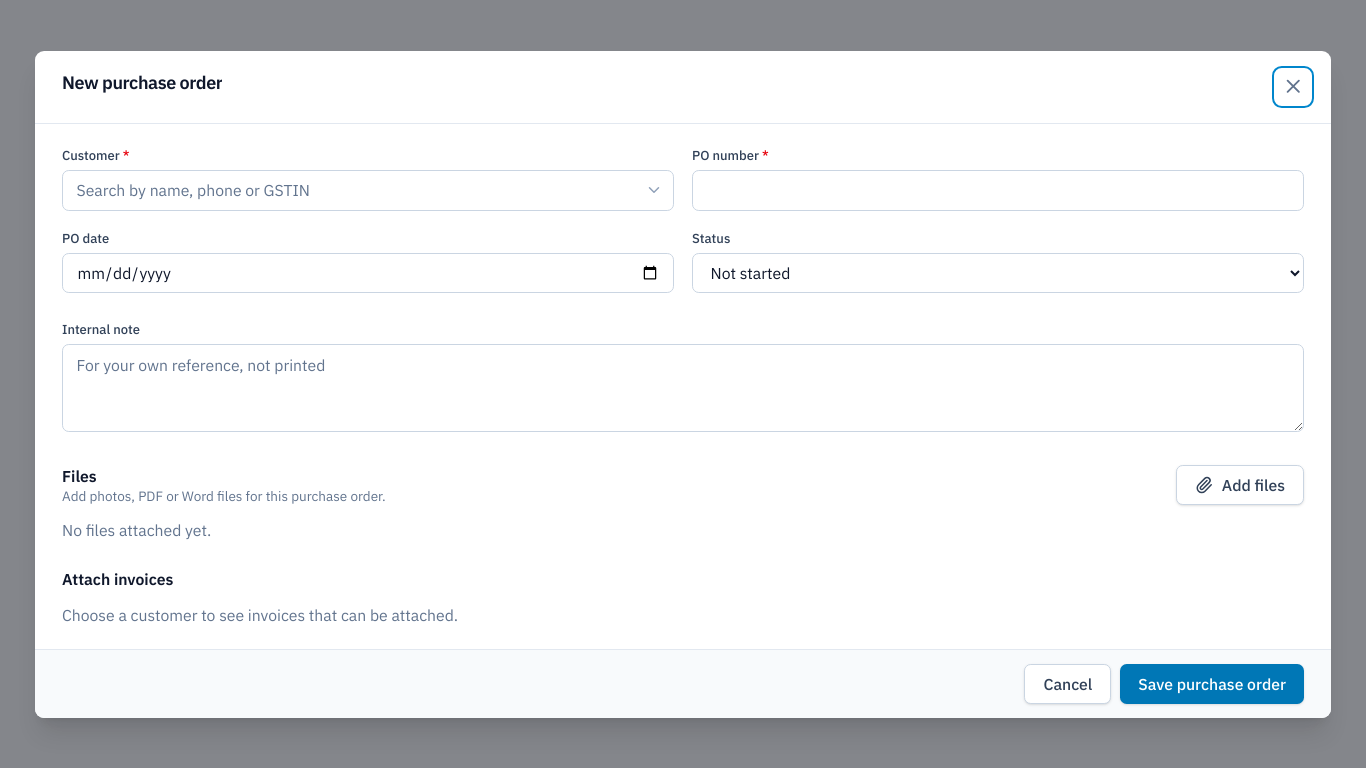
Test: a new purchase order › shows each invoice's payment state
The image size is (1366, 768).
Click the dropdown named "Customer" at (368, 190), box [62,170,674,210]
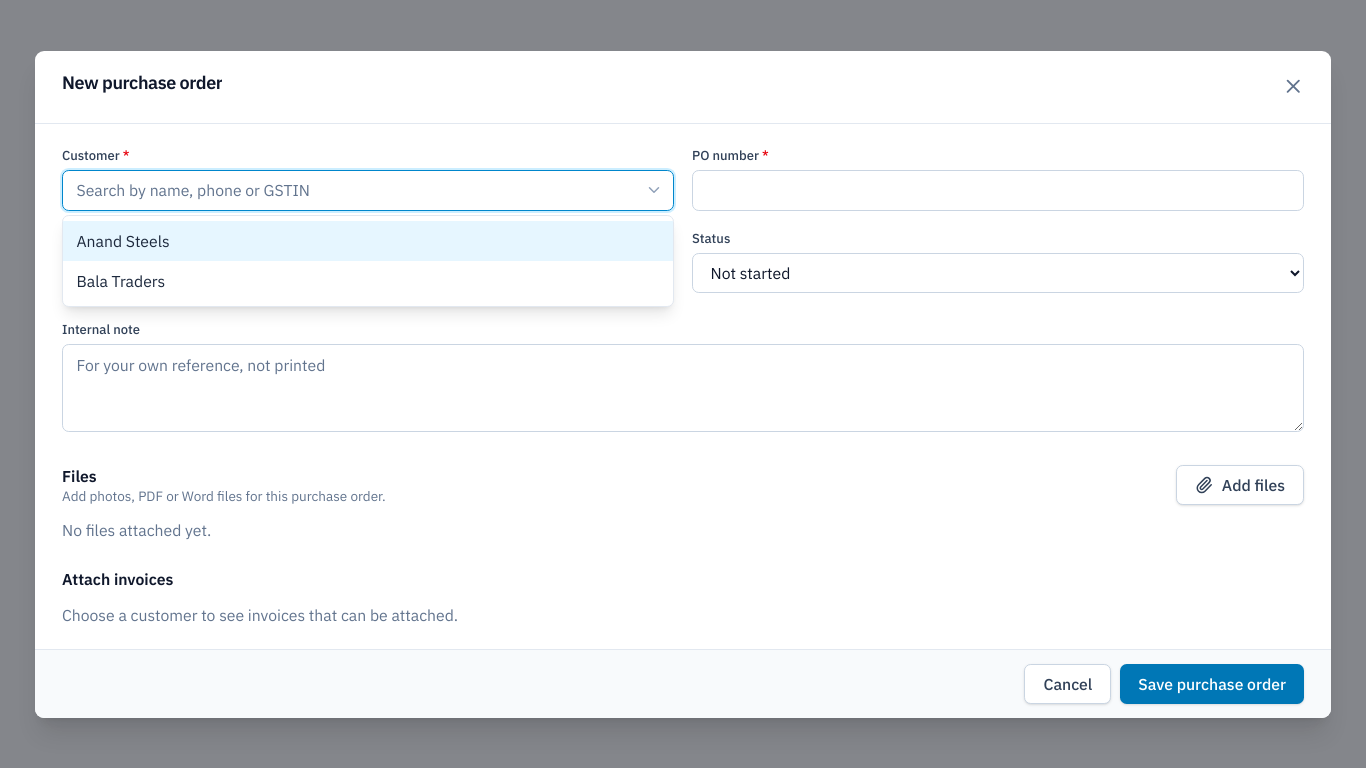
Click the option "Anand Steels" at (123, 240), box [63,220,673,261]
(page scrolled)
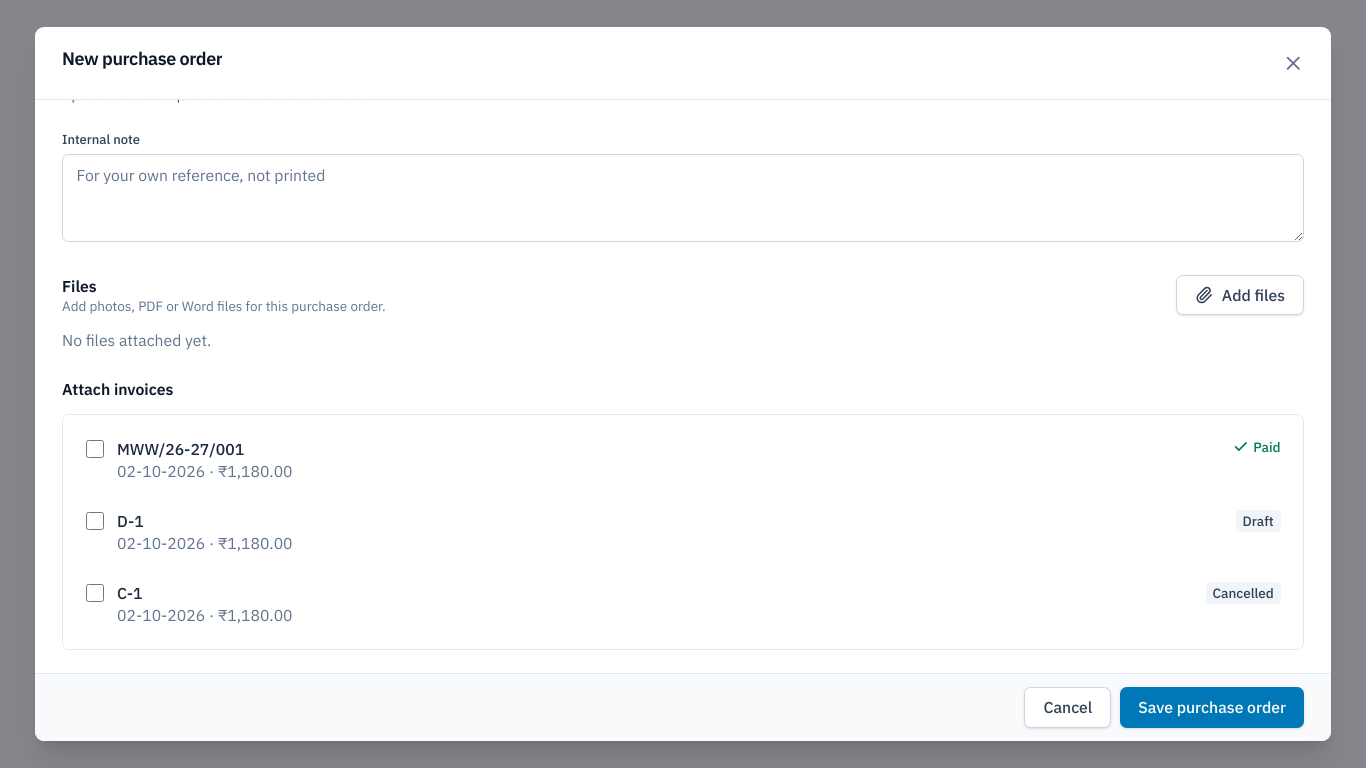
expect the text "Paid" is shown: met, box [1233,438,1280,456]
